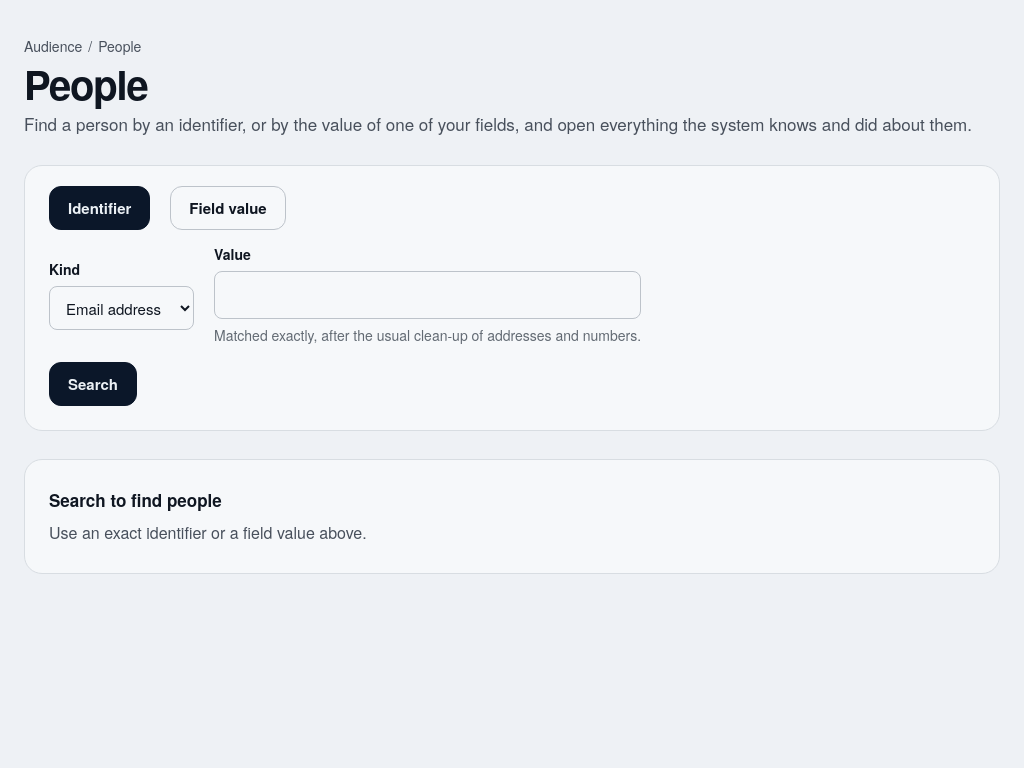
Test: people search › builds an external kind from the system name
Step 1. Select "External ID" in the dropdown labelled "Kind" → (122, 308), box [49,286,194,330]
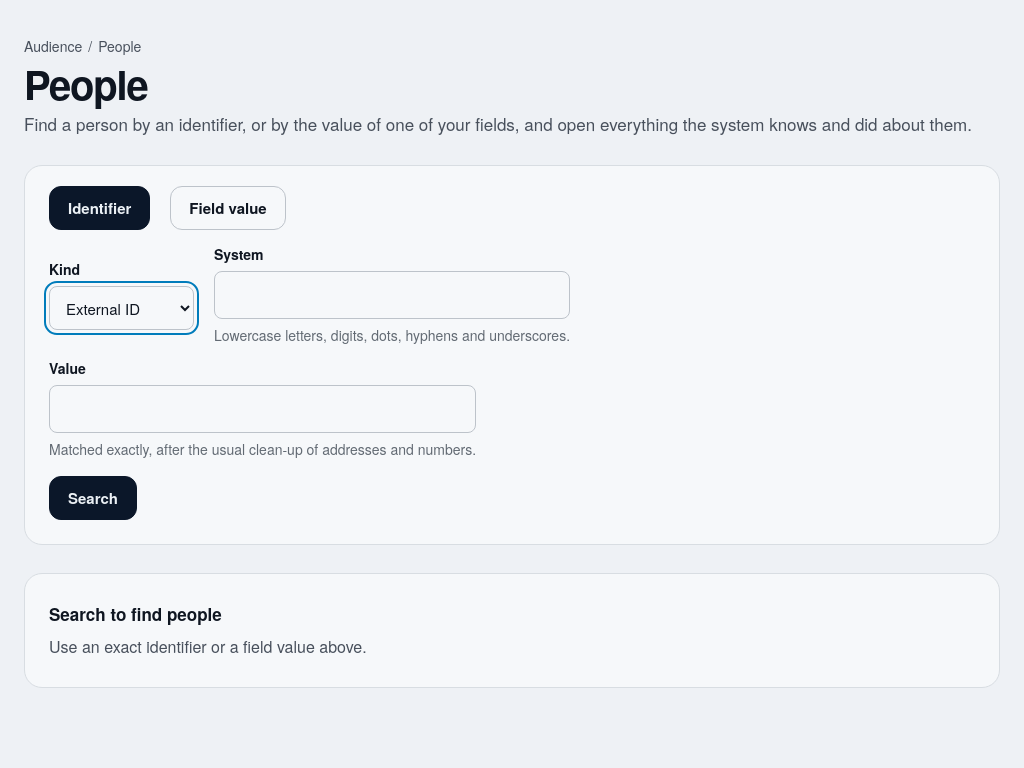
Step 2. Type "crm" into the field labelled "System" → (392, 295), box [214,271,570,319]
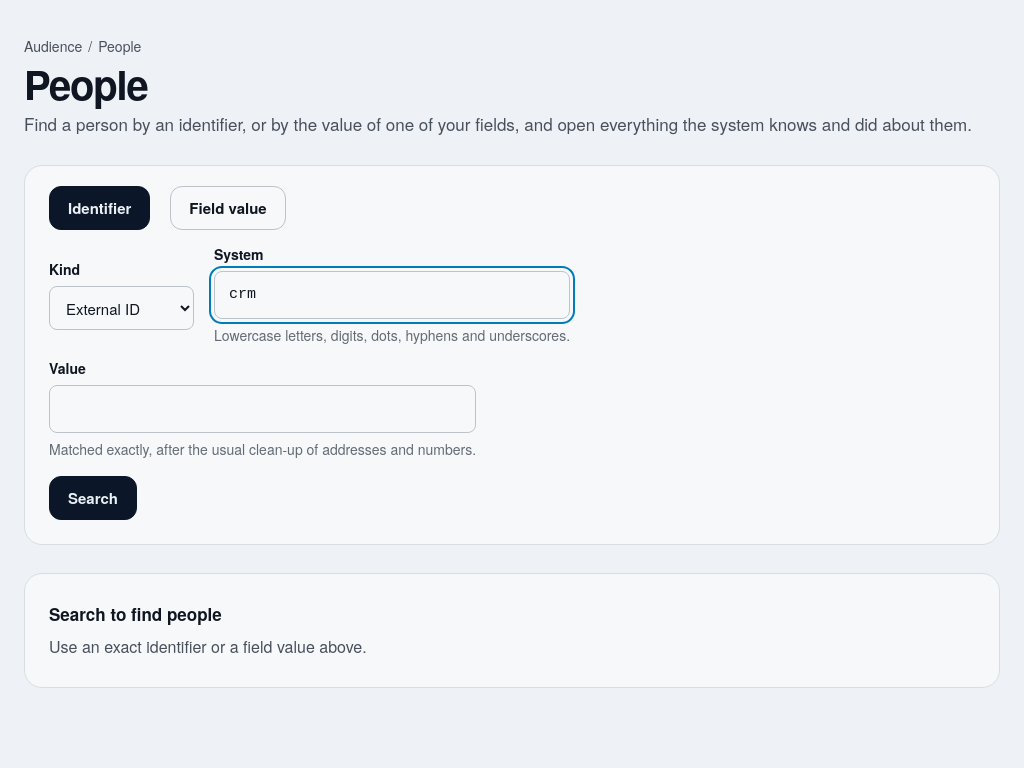
Step 3. Type "42" into the field labelled "Value" → (263, 409), box [49,385,476,433]
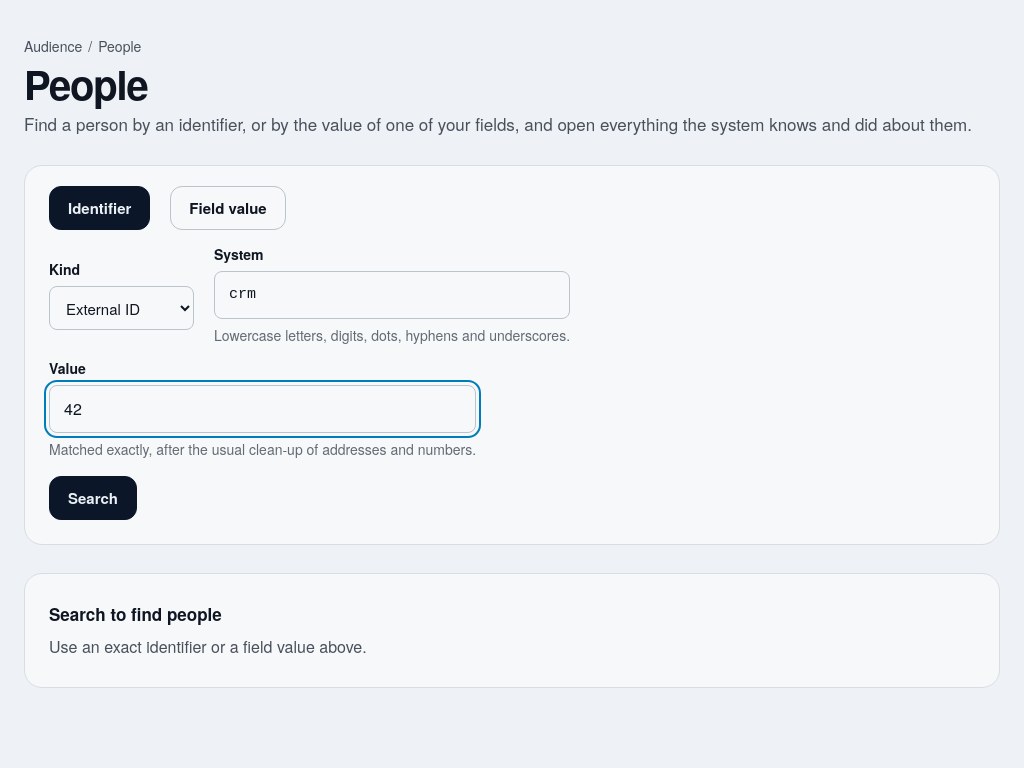
Step 4. Click the button "Search" → (93, 498), box [49,476,137,520]
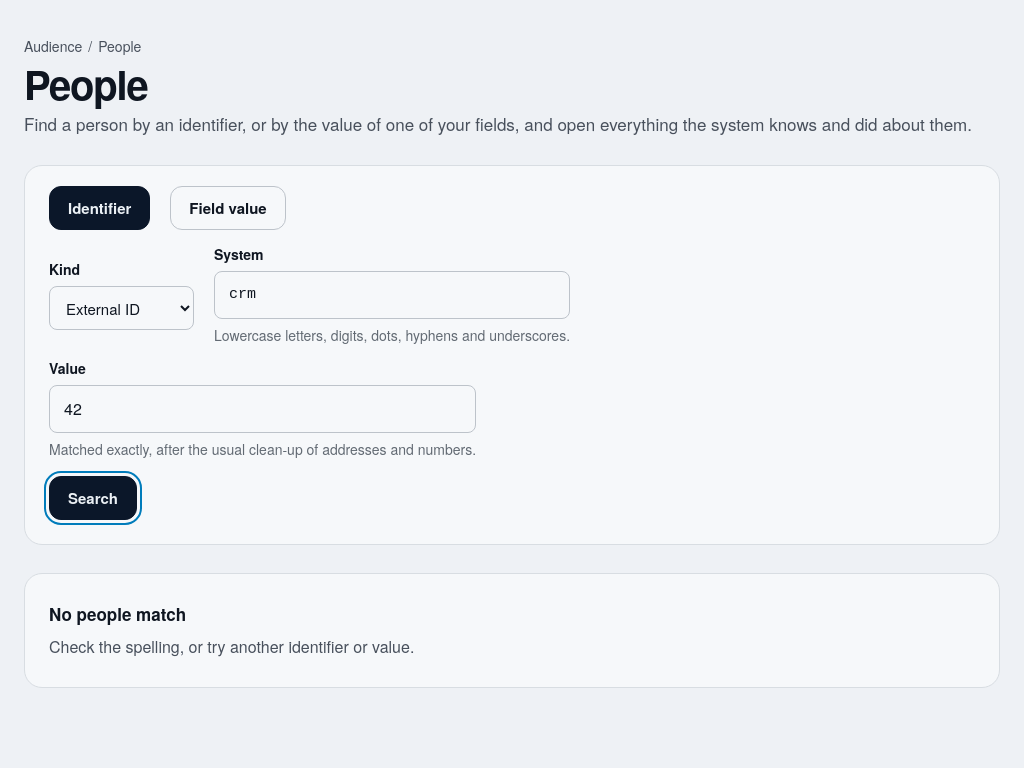
Expected: the text "No people match" is shown, [49,602,186,627]
